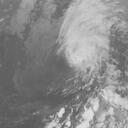cyclone: (56, 22, 110, 73)
